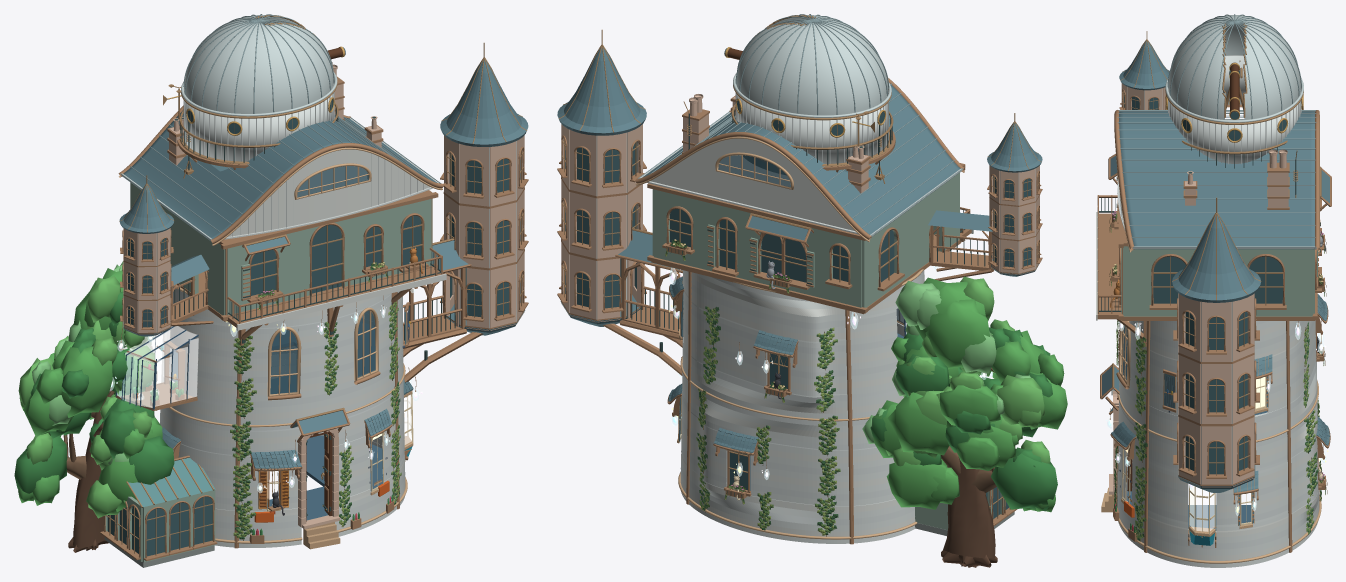
The model's file is mansion-v04-DVZCJdJp.glb.
3 renders of one model, left to right at view 1: azimuth 30°, elevation 25°; view 2: azimuth 150°, elevation 25°; view 3: azimuth 270°, elevation 25°, orthographic.
Parts seen in each view (by area): view 1: M01_Reuse_TREE_Left_Foliage, M01_Reuse_ObsDome_Curved, M01_Reuse_CURVE_BellGable_SlateRoof, M01_Reuse_CURVE_ArchedGable_PaintedTimber, M01_Tower_WitchHat, M01_Reuse_CURVE_Observatory_CylindricalDrum, M01_Reuse_TREE_Left_Trunk, M01_Conservatory_RoofGlass, M01_Reuse_INT_Slab_Living, M01_Reuse_CURVE_Roof_Soffit, M04_WestPassage, M01_GrandBalcony_Deck (+37 smaller); view 2: M01_Reuse_TREE_Left_Foliage, M01_Reuse_ObsDome_Curved, M01_Reuse_CURVE_BellGable_SlateRoof, M01_Reuse_CURVE_ArchedGable_Rear, M01_Reuse_TREE_Left_Trunk, M01_Tower_WitchHat, M01_Reuse_CURVE_Observatory_CylindricalDrum, M04_WestPassage, M01_Reuse_CURVE_Roof_Soffit, M04_WestTurret_M01_Tower_WitchHat, M01_Reuse_CURVE_Gable_Back_Bargeboard, M03_RearBay_1_Glass (+63 smaller); view 3: M01_Reuse_CURVE_BellGable_SlateRoof, M01_Reuse_ObsDome_Curved, M01_Tower_WitchHat, M01_Reuse_CURVE_Observatory_CylindricalDrum, M01_UpperFloor_Side_L.002, M01_UpperFloor_Side_R.003, M01_GrandBalcony_Deck, M04_WestTurret_M01_Tower_WitchHat, M01_UpperFloor_Side_Glass.004, M01_UpperFloor_Side_Glass.003, M01_Reuse_CURVE_Right_Clapboard_02, M01_Reuse_CURVE_Right_Clapboard_03 (+81 smaller).
Part boxes in pixels (<box>): M01_Reuse_TREE_Left_Foliage: <box>14,261,174,518</box>; M01_Reuse_ObsDome_Curved: <box>184,15,333,113</box>; M01_Reuse_CURVE_BellGable_SlateRoof: <box>122,110,436,240</box>; M01_Reuse_CURVE_ArchedGable_PaintedTimber: <box>228,147,429,236</box>; M01_Tower_WitchHat: <box>440,60,528,146</box>; M01_Reuse_CURVE_Observatory_CylindricalDrum: <box>185,84,333,161</box>; M01_Reuse_TREE_Left_Trunk: <box>63,346,156,552</box>; M01_Conservatory_RoofGlass: <box>128,457,215,507</box>; M01_Reuse_INT_Slab_Living: <box>267,435,382,520</box>; M01_Reuse_CURVE_Roof_Soffit: <box>121,118,439,240</box>; M04_WestPassage: <box>170,254,213,326</box>; M01_GrandBalcony_Deck: <box>227,267,440,327</box>; M01_Reuse_TREE_Left_Foliage: <box>862,276,1067,512</box>; M01_Reuse_ObsDome_Curved: <box>736,15,888,115</box>; M01_Reuse_CURVE_BellGable_SlateRoof: <box>642,84,961,238</box>; M01_Reuse_CURVE_ArchedGable_Rear: <box>650,136,854,230</box>; M01_Reuse_TREE_Left_Trunk: <box>941,368,997,567</box>; M01_Tower_WitchHat: <box>557,47,646,135</box>; M01_Reuse_CURVE_Observatory_CylindricalDrum: <box>736,85,887,163</box>; M04_WestPassage: <box>928,210,993,280</box>; M01_Reuse_CURVE_Roof_Soffit: <box>639,112,962,236</box>; M04_WestTurret_M01_Tower_WitchHat: <box>987,123,1042,172</box>; M01_Reuse_CURVE_Gable_Back_Bargeboard: <box>635,132,871,239</box>; M03_RearBay_1_Glass: <box>761,234,806,282</box>; M01_Reuse_CURVE_BellGable_SlateRoof: <box>1119,111,1316,249</box>; M01_Reuse_ObsDome_Curved: <box>1168,15,1300,119</box>; M01_Tower_WitchHat: <box>1172,215,1260,302</box>; M01_Reuse_CURVE_Observatory_CylindricalDrum: <box>1169,55,1300,163</box>; M01_UpperFloor_Side_L.002: <box>1123,246,1152,316</box>; M01_UpperFloor_Side_R.003: <box>1284,249,1313,316</box>; M01_GrandBalcony_Deck: <box>1097,213,1118,319</box>; M04_WestTurret_M01_Tower_WitchHat: <box>1119,41,1169,90</box>; M01_UpperFloor_Side_Glass.004: <box>1249,256,1282,303</box>; M01_UpperFloor_Side_Glass.003: <box>1153,256,1185,303</box>; M01_Reuse_CURVE_Right_Clapboard_02: <box>1147,534,1288,555</box>; M01_Reuse_CURVE_Right_Clapboard_03: <box>1147,528,1288,549</box>.
Size of the model in its own units: 36.61 by 34.67 by 14.88.
